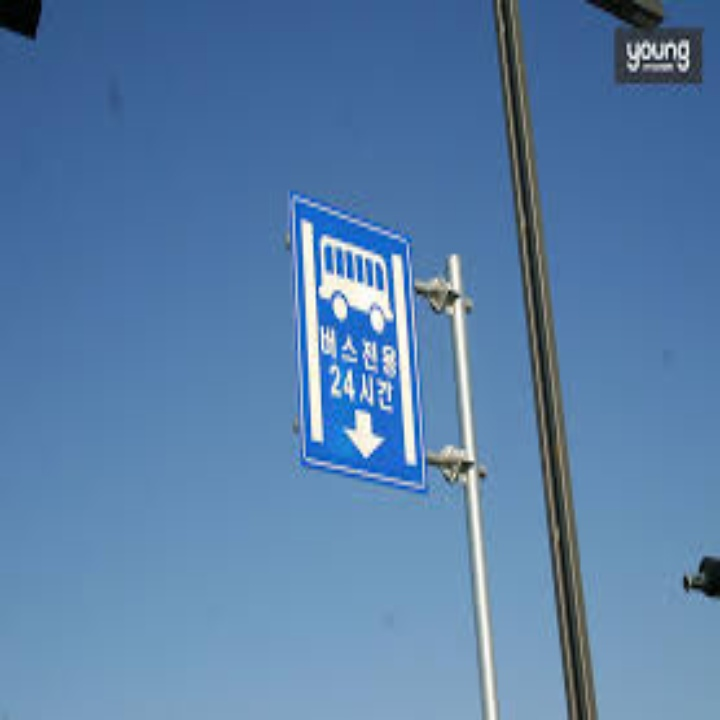bus: (317, 224, 394, 340)
